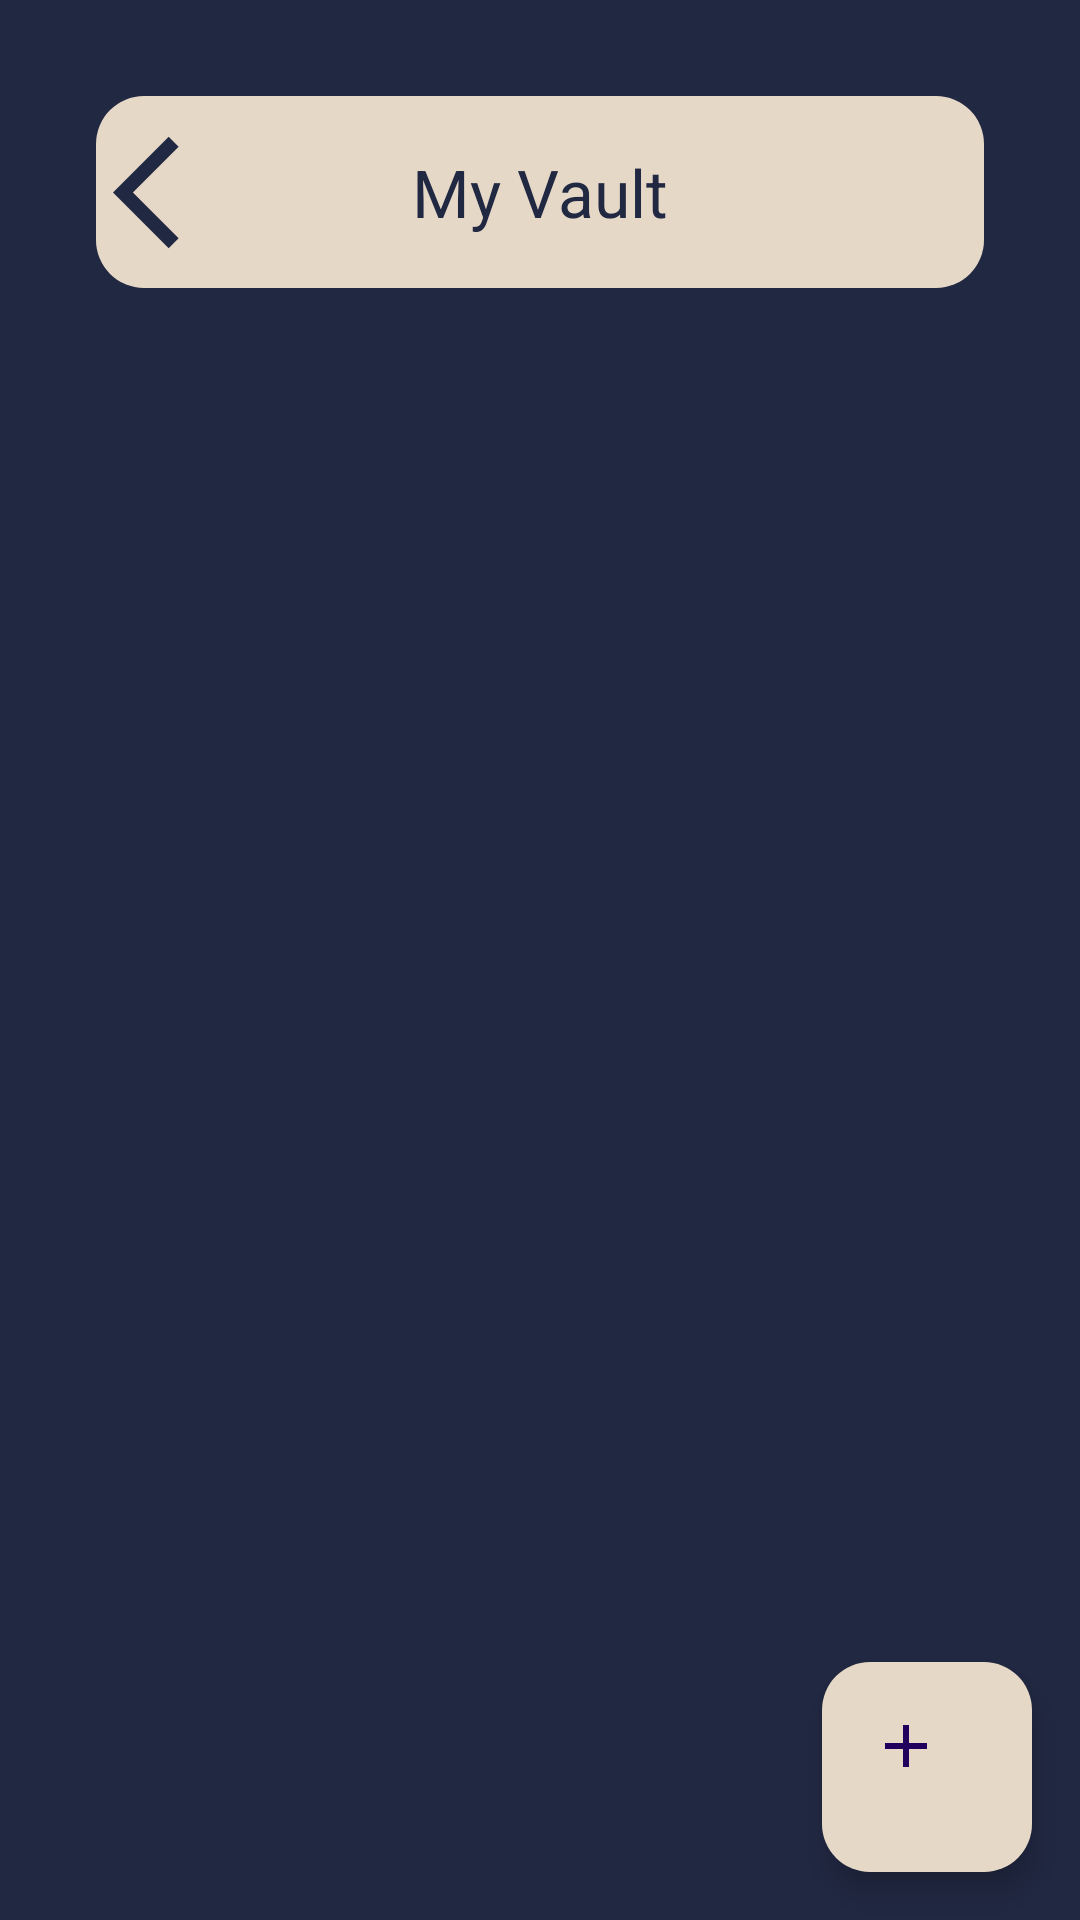

Icon bounding boxes for this 1080 × 1920 phone screenshot, format (x1, y1, x2, y2):
Add Password: (822, 1662, 1032, 1872)
